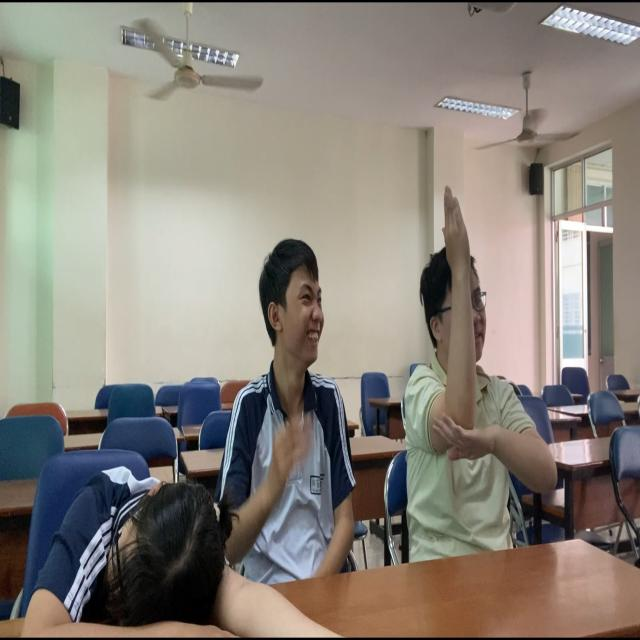raise_hand: (397, 112, 583, 607)
sleep: (1, 448, 240, 640)
